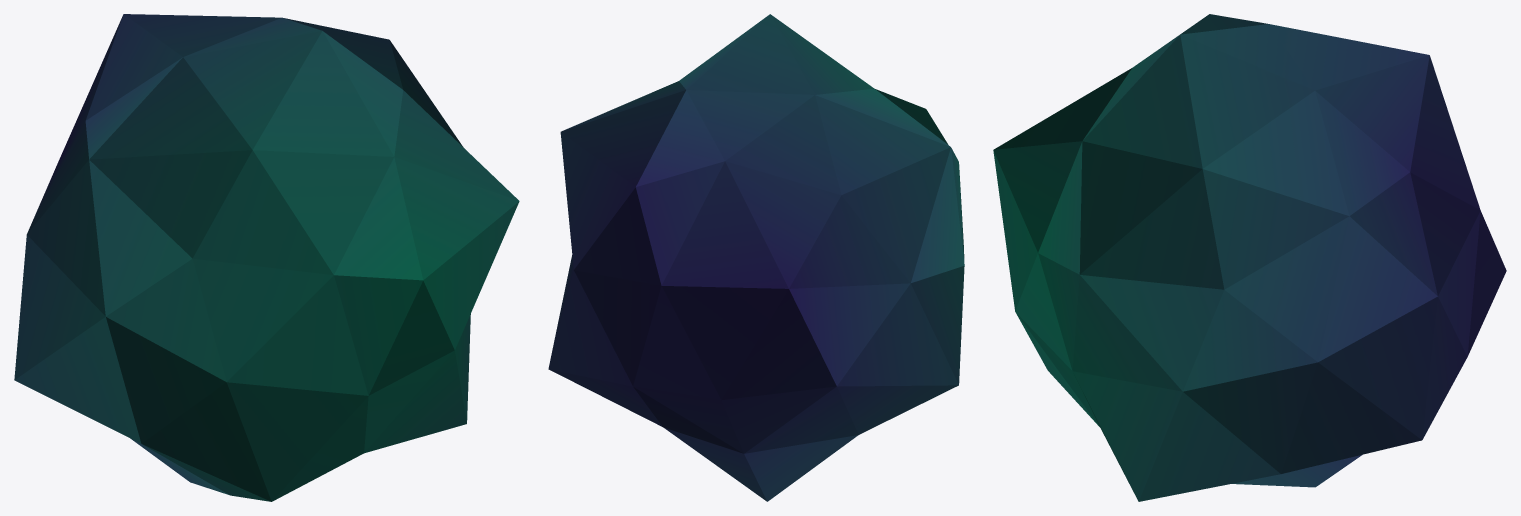
The model's file is BrokenGLTF3.gltf.
The picture shows the model from 3 angles, left to right: view 1: azimuth 30°, elevation 25°; view 2: azimuth 150°, elevation 25°; view 3: azimuth 270°, elevation 25°; orthographic projection. The views are drawn at different scales.
Visible parts, largest first — view 1: Icosphere; view 2: Icosphere; view 3: Icosphere.
Part boxes in pixels (box(x1,y1,x2,y2)): Icosphere: box(14, 14, 519, 501); Icosphere: box(548, 14, 964, 501); Icosphere: box(993, 14, 1506, 501).
Bounding box in the file's own units: 0.9259 × 1.01 × 0.97.
Materials: 1 (1 with a texture image).
